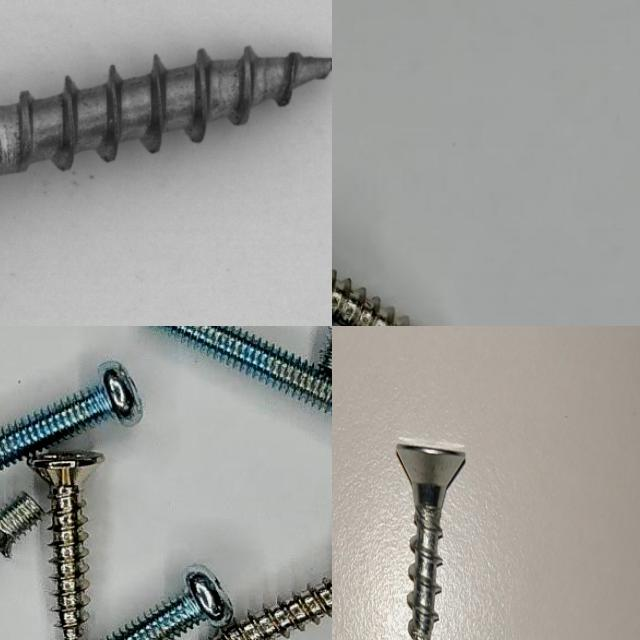Screw: (0, 0, 332, 304), (157, 326, 332, 415), (0, 362, 142, 468), (27, 451, 103, 640), (396, 441, 465, 640), (103, 565, 233, 640), (212, 582, 332, 640), (332, 271, 409, 326), (0, 493, 43, 559)
